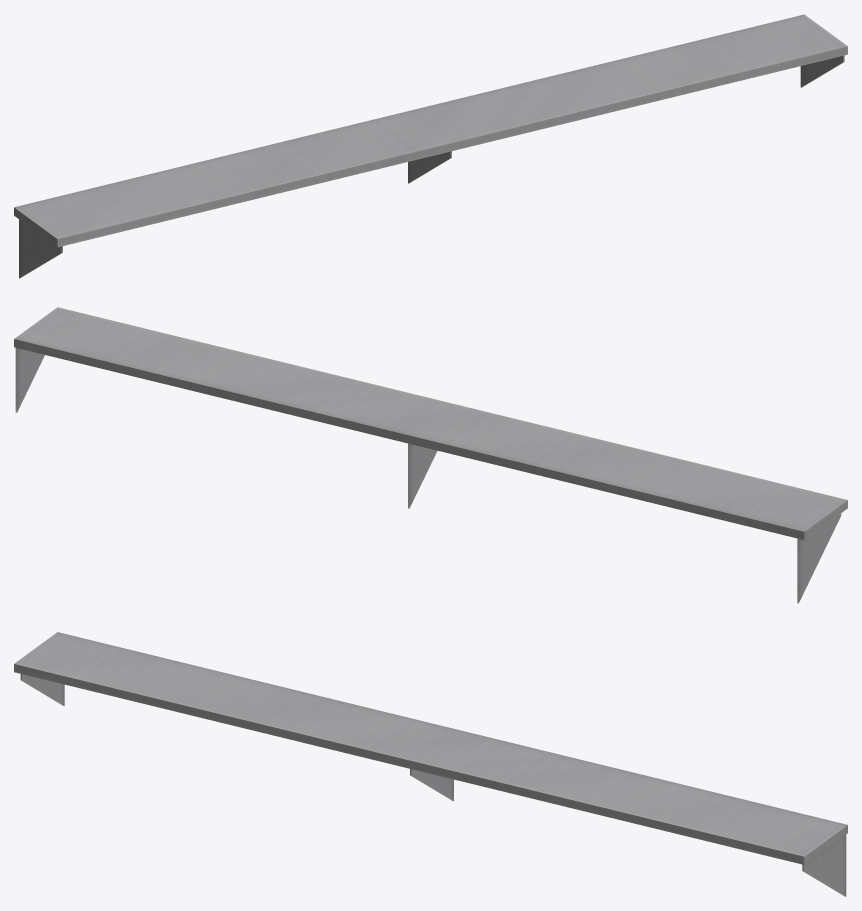
The model's file is jsf_AdditionalTable_s02.fbx.
3 renders of one model, top to bottom at view 1: azimuth 30°, elevation 25°; view 2: azimuth 150°, elevation 25°; view 3: azimuth 330°, elevation 25°, orthographic.
Visible parts, largest first — view 1: jsf_AdditionalTable_s02; view 2: jsf_AdditionalTable_s02; view 3: jsf_AdditionalTable_s02.
Boxes of the visible parts, x1,y1,x2,y2 form: jsf_AdditionalTable_s02: (14, 14, 847, 278); jsf_AdditionalTable_s02: (14, 307, 847, 603); jsf_AdditionalTable_s02: (14, 632, 847, 896).
Bounding box in the file's own units: 209 × 18.46 × 20.2.
